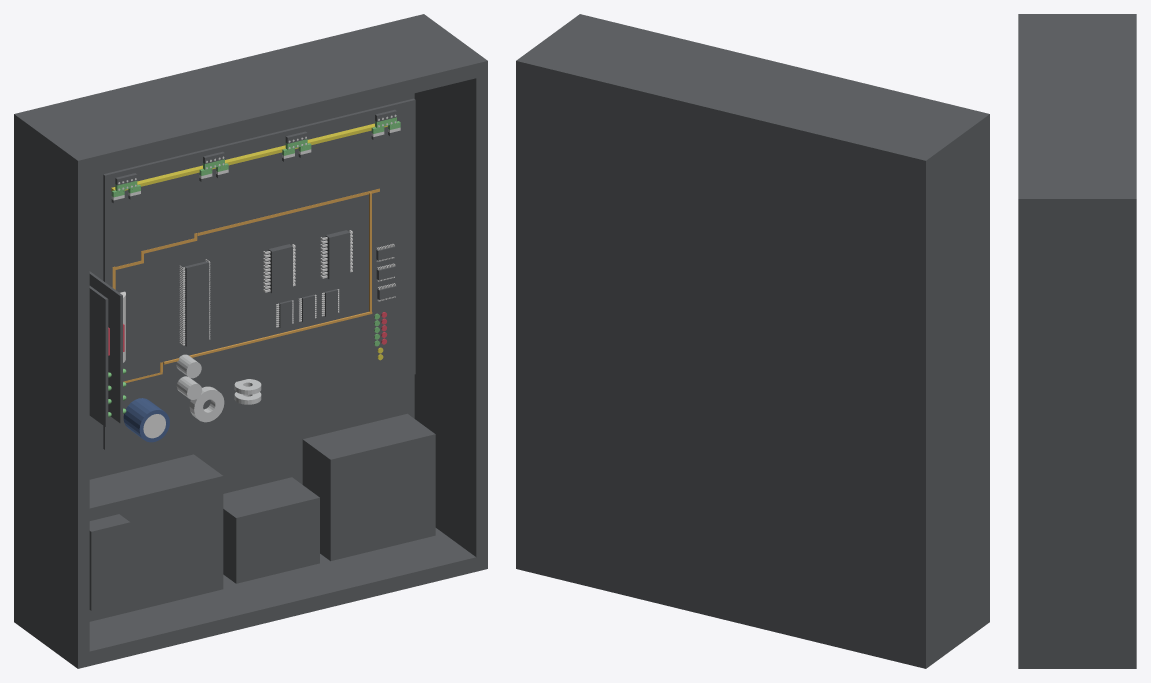
Rendered from Hirsch Door Controller sm.glb.
The picture shows the model from 3 angles, left to right: view 1: azimuth 30°, elevation 25°; view 2: azimuth 150°, elevation 25°; view 3: azimuth 270°, elevation 25°; orthographic projection. The views are drawn at different scales.
Parts seen in each view (by area): view 1: Mesh_Mesh_head_geo.001_lambert2SG.001; view 2: Mesh_Mesh_head_geo.001_lambert2SG.001; view 3: Mesh_Mesh_head_geo.001_lambert2SG.001.
Part boxes in pixels (box(x1,y1,x2,y2)): Mesh_Mesh_head_geo.001_lambert2SG.001: box(14, 14, 487, 668); Mesh_Mesh_head_geo.001_lambert2SG.001: box(516, 14, 989, 668); Mesh_Mesh_head_geo.001_lambert2SG.001: box(1018, 14, 1136, 668).
Bounding box in the file's own units: 386 × 457 × 104.
